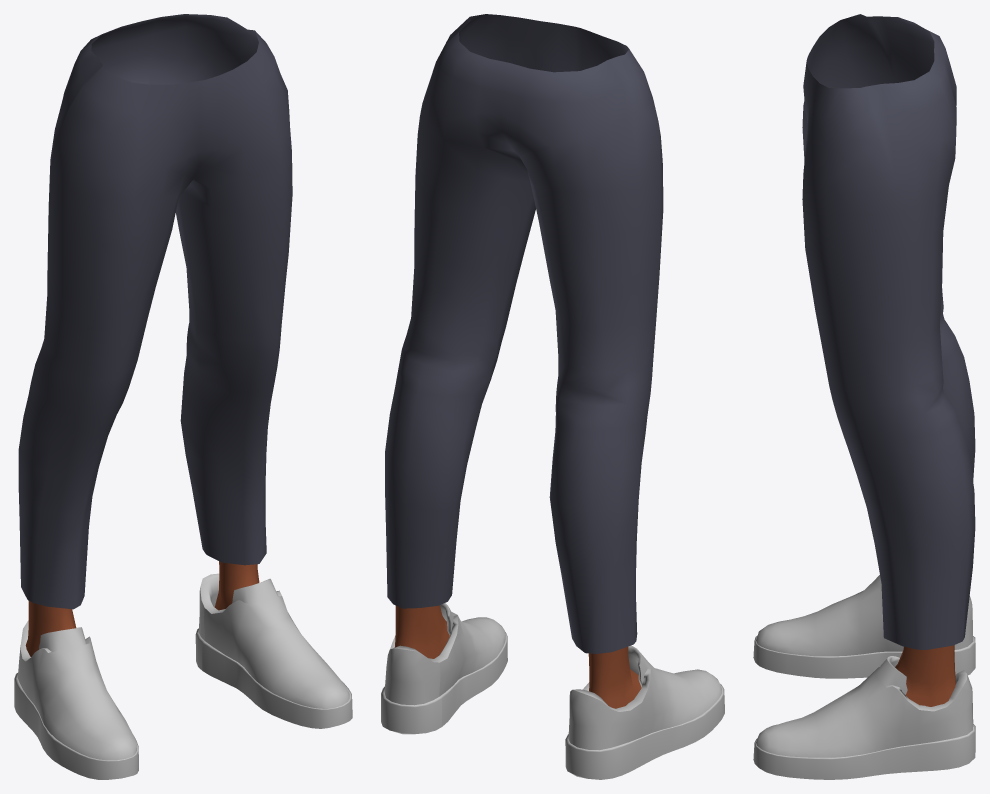
File: woman3_lowerBody.glb
3 views of the same model, side by side, from view 1: azimuth 30°, elevation 25°; view 2: azimuth 150°, elevation 25°; view 3: azimuth 270°, elevation 25° (orthographic). The views are drawn at different scales.
Parts seen in each view (by area): view 1: Wolf3D_Outfit_Bottom, Wolf3D_Outfit_Footwear, Wolf3D_Body; view 2: Wolf3D_Outfit_Bottom, Wolf3D_Outfit_Footwear, Wolf3D_Body; view 3: Wolf3D_Outfit_Bottom, Wolf3D_Outfit_Footwear, Wolf3D_Body.
Part boxes in pixels (x1,y1,x2,y2): Wolf3D_Outfit_Bottom: (18, 14, 292, 609); Wolf3D_Outfit_Footwear: (14, 573, 352, 779); Wolf3D_Body: (25, 561, 259, 656); Wolf3D_Outfit_Bottom: (385, 14, 663, 653); Wolf3D_Outfit_Footwear: (381, 603, 724, 779); Wolf3D_Body: (394, 605, 641, 708); Wolf3D_Outfit_Bottom: (802, 14, 975, 649); Wolf3D_Outfit_Footwear: (753, 575, 975, 779); Wolf3D_Body: (895, 645, 955, 706).
Bounding box in the file's own units: 4.75 × 10.85 × 3.3.
